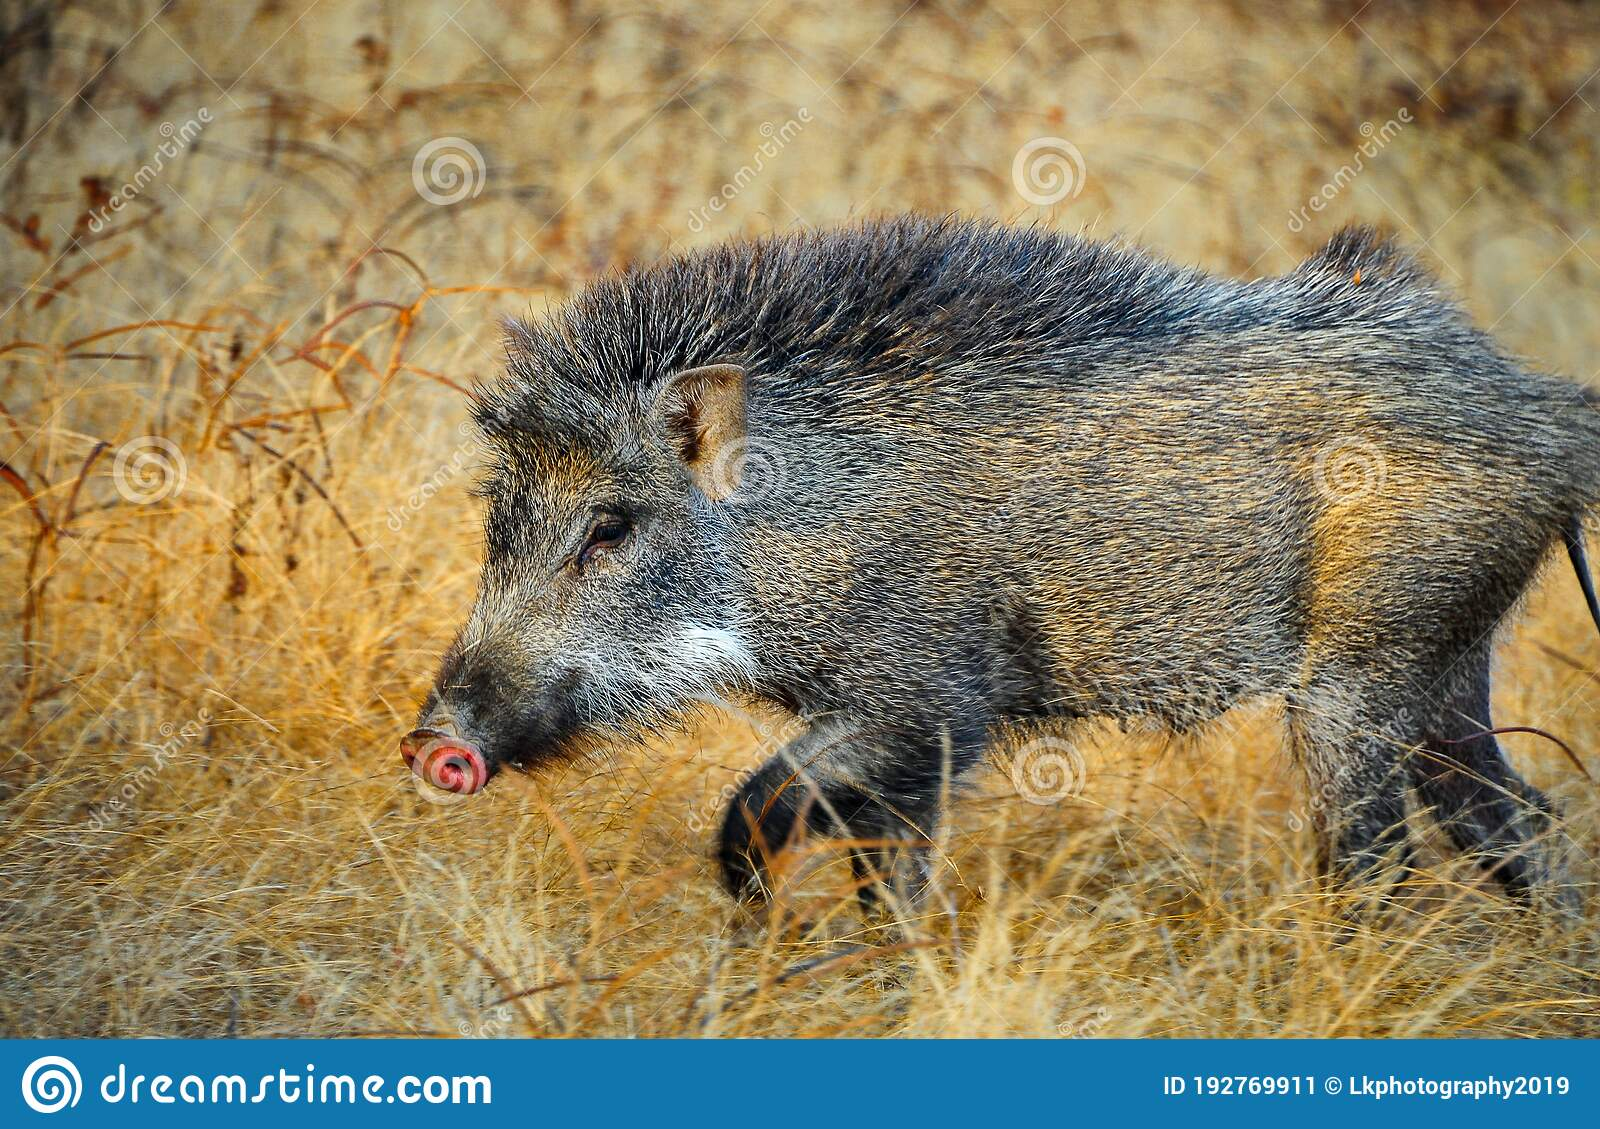wild boar: (384, 213, 1600, 957)
